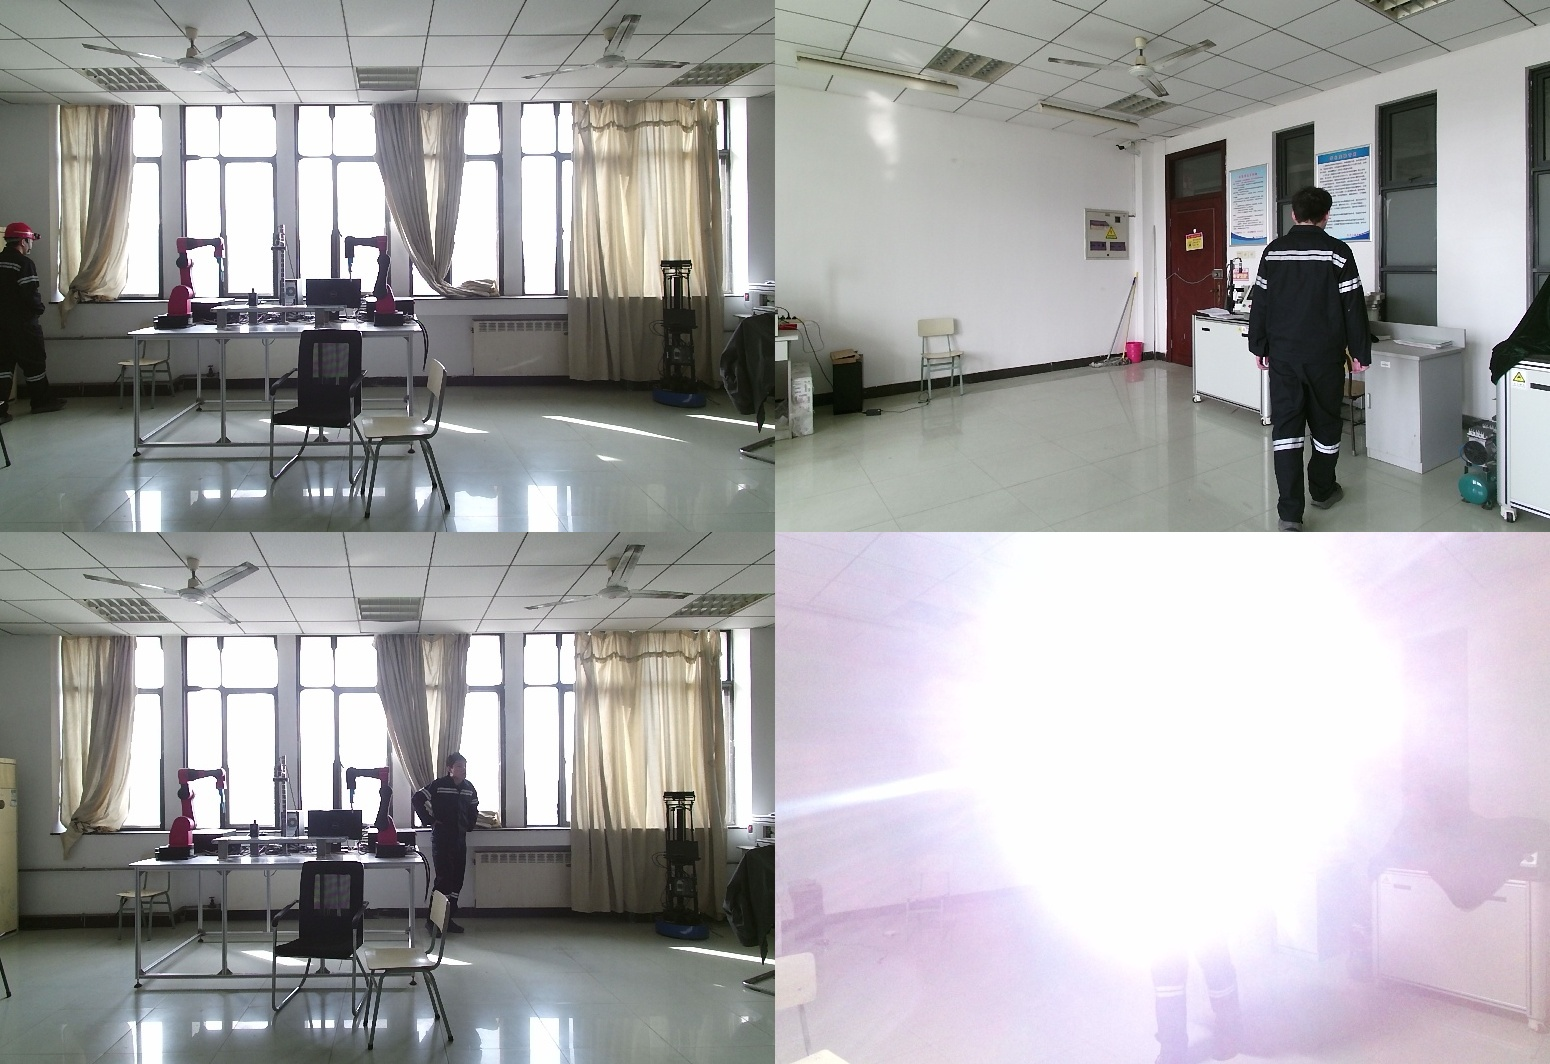person: (1246, 186, 1378, 532), (1137, 712, 1257, 1064), (413, 755, 479, 943), (1, 224, 64, 416)
